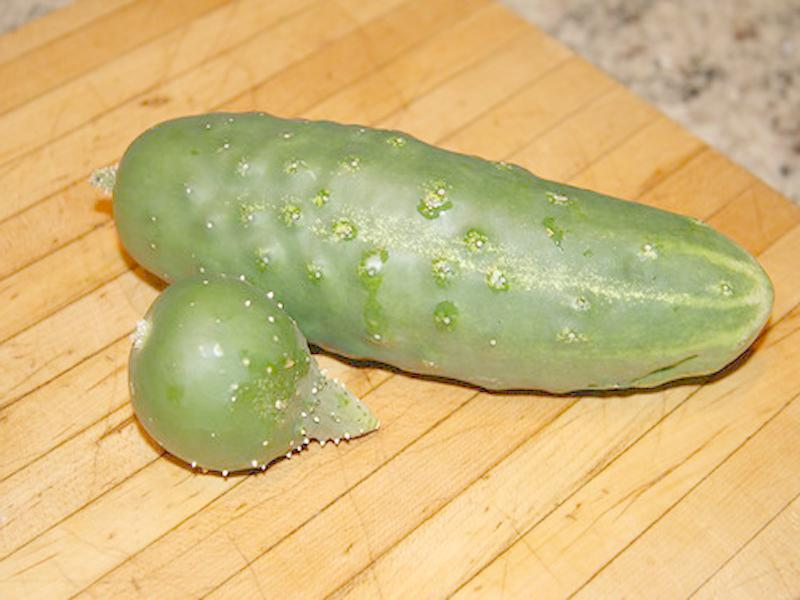Cucumber: (111, 112, 775, 395)
